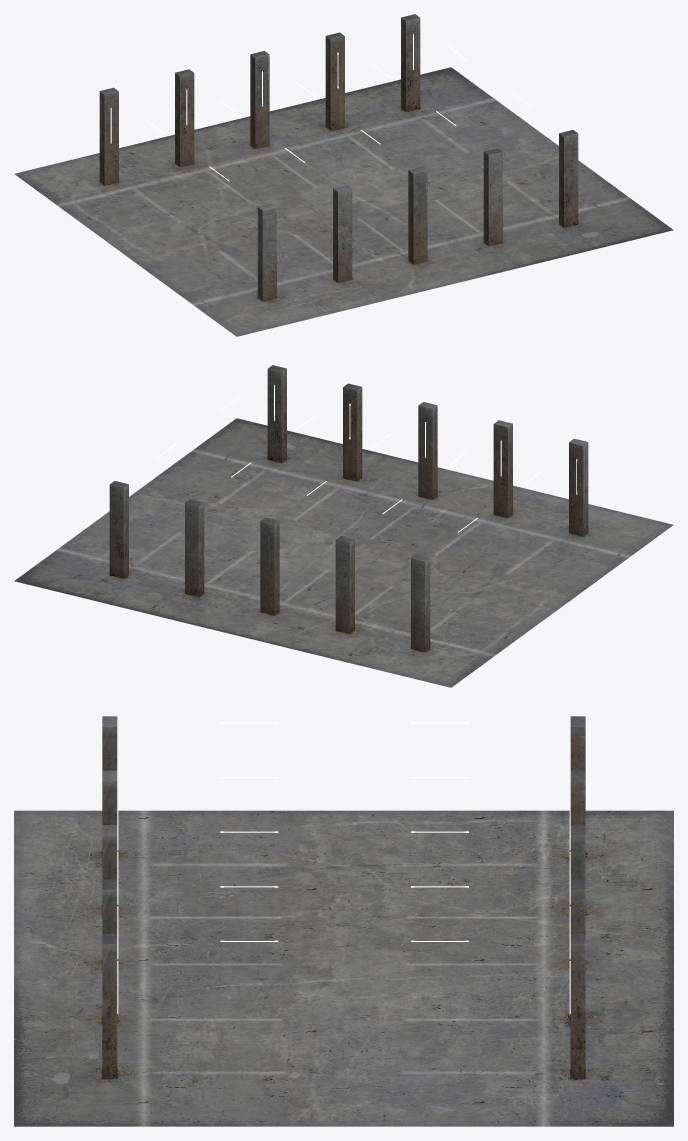
The model's file is parking_garage.glb.
The picture shows the model from 3 angles, top to bottom: view 1: azimuth 30°, elevation 25°; view 2: azimuth 150°, elevation 25°; view 3: azimuth 270°, elevation 25°; orthographic projection. The views are drawn at different scales.
Parts seen in each view (by area): view 1: Object_2, Object_3; view 2: Object_2, Object_3; view 3: Object_2, Object_3.
Boxes of the visible parts, bbox=[...] form: Object_2: bbox=[14, 14, 673, 336]; Object_3: bbox=[110, 34, 531, 181]; Object_2: bbox=[14, 365, 673, 687]; Object_3: bbox=[155, 385, 577, 532]; Object_2: bbox=[14, 716, 673, 1126]; Object_3: bbox=[117, 722, 570, 1013].
Size of the model in its own units: 19.51 by 3.88 by 17.22.
Materials: 2 (1 with a texture image).
